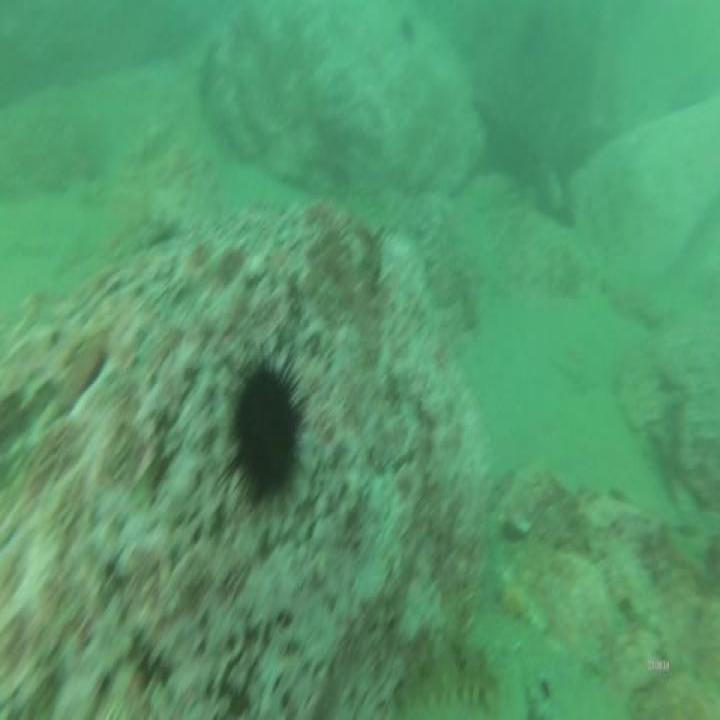echinus: (230, 354, 300, 508)
holothurian: (393, 631, 503, 720)
